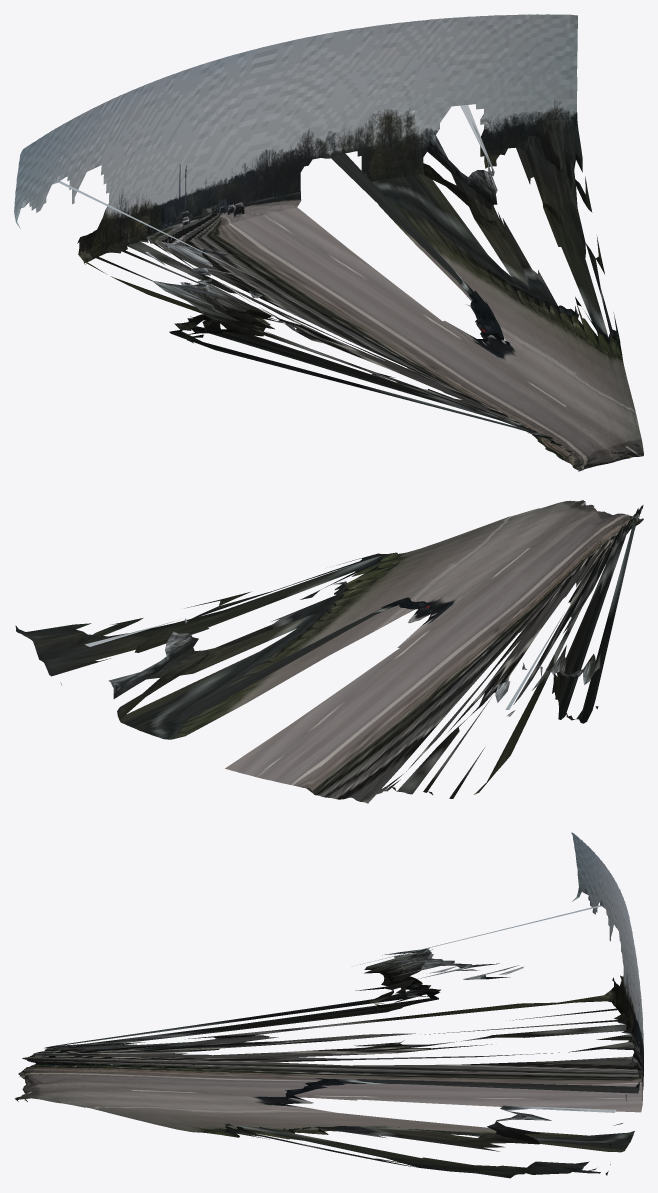
3 renders of one model, top to bottom at view 1: azimuth 30°, elevation 25°; view 2: azimuth 150°, elevation 25°; view 3: azimuth 270°, elevation 25°, orthographic. The views are drawn at different scales.
Visible parts, largest first — view 1: defaultobject; view 2: defaultobject; view 3: defaultobject.
Part boxes in pixels (x1,y1,x2,y2): defaultobject: [14, 14, 643, 471]; defaultobject: [15, 500, 643, 803]; defaultobject: [14, 832, 643, 1178].
Bounding box in the file's own units: 41.06 × 12.47 × 44.8.
1 material, 1 textured.
